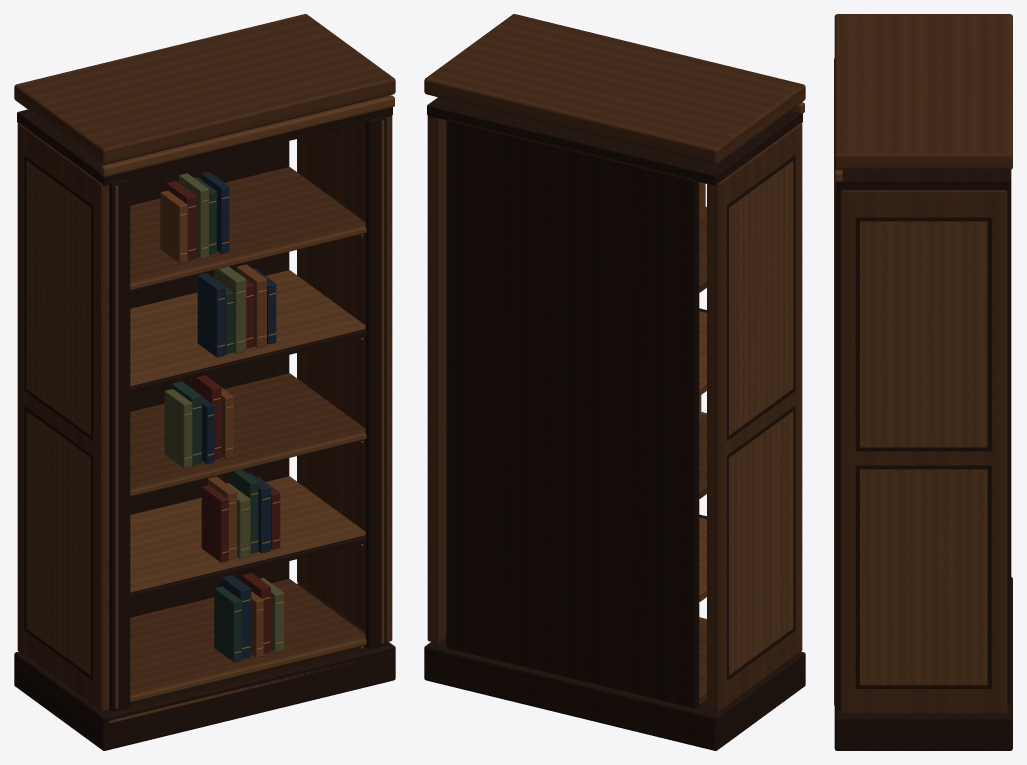
Rendered from asset.glb.
3 views of the same model, side by side, from view 1: azimuth 30°, elevation 25°; view 2: azimuth 150°, elevation 25°; view 3: azimuth 270°, elevation 25° (orthographic).
Parts seen in each view (by area): view 1: MaterialBatch_Room_furniture_quarter-sawn_oak, MaterialBatch_Room_furniture_light_oak, MaterialBatch_Room_furniture_smoked_walnut, MaterialBatch_Household_bookcase_navy_cloth_bindings, MaterialBatch_Household_bookcase_olive_linen_bindings, MaterialBatch_Household_bookcase_oxblood_leather_bindings, MaterialBatch_Household_bookcase_russet_cloth_bindings, MaterialBatch_Household_bookcase_forest_cloth_bindings, MaterialBatch_Household_bookcase_aged_gold_spine_tooling; view 2: MaterialBatch_Room_furniture_smoked_walnut, MaterialBatch_Room_furniture_quarter-sawn_oak, MaterialBatch_Room_furniture_light_oak; view 3: MaterialBatch_Room_furniture_light_oak, MaterialBatch_Room_furniture_quarter-sawn_oak, MaterialBatch_Room_furniture_smoked_walnut.
Part boxes in pixels (left/top/right/bottom): MaterialBatch_Room_furniture_quarter-sawn_oak: left=14, top=14, right=395, bottom=711; MaterialBatch_Room_furniture_light_oak: left=26, top=95, right=394, bottom=722; MaterialBatch_Room_furniture_smoked_walnut: left=14, top=107, right=395, bottom=750; MaterialBatch_Household_bookcase_navy_cloth_bindings: left=197, top=171, right=276, bottom=659; MaterialBatch_Household_bookcase_olive_linen_bindings: left=164, top=173, right=283, bottom=652; MaterialBatch_Household_bookcase_oxblood_leather_bindings: left=166, top=181, right=280, bottom=653; MaterialBatch_Household_bookcase_russet_cloth_bindings: left=160, top=190, right=266, bottom=657; MaterialBatch_Household_bookcase_forest_cloth_bindings: left=171, top=177, right=258, bottom=662; MaterialBatch_Household_bookcase_aged_gold_spine_tooling: left=180, top=196, right=283, bottom=653; MaterialBatch_Room_furniture_smoked_walnut: left=424, top=97, right=805, bottom=750; MaterialBatch_Room_furniture_quarter-sawn_oak: left=424, top=14, right=805, bottom=711; MaterialBatch_Room_furniture_light_oak: left=699, top=102, right=804, bottom=674; MaterialBatch_Room_furniture_light_oak: left=834, top=58, right=987, bottom=705; MaterialBatch_Room_furniture_quarter-sawn_oak: left=834, top=14, right=1012, bottom=713; MaterialBatch_Room_furniture_smoked_walnut: left=834, top=170, right=1012, bottom=750.
Size of the model in its own units: 32 by 63 by 17.06.
Materials: 11 (11 with a texture image).
